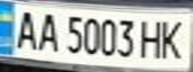0: (81, 14, 103, 56), (100, 16, 118, 57)
3: (115, 16, 139, 58)
5: (60, 12, 84, 55)
A: (9, 7, 42, 51), (33, 8, 60, 52)
H: (136, 16, 166, 60)
K: (157, 16, 190, 61)
